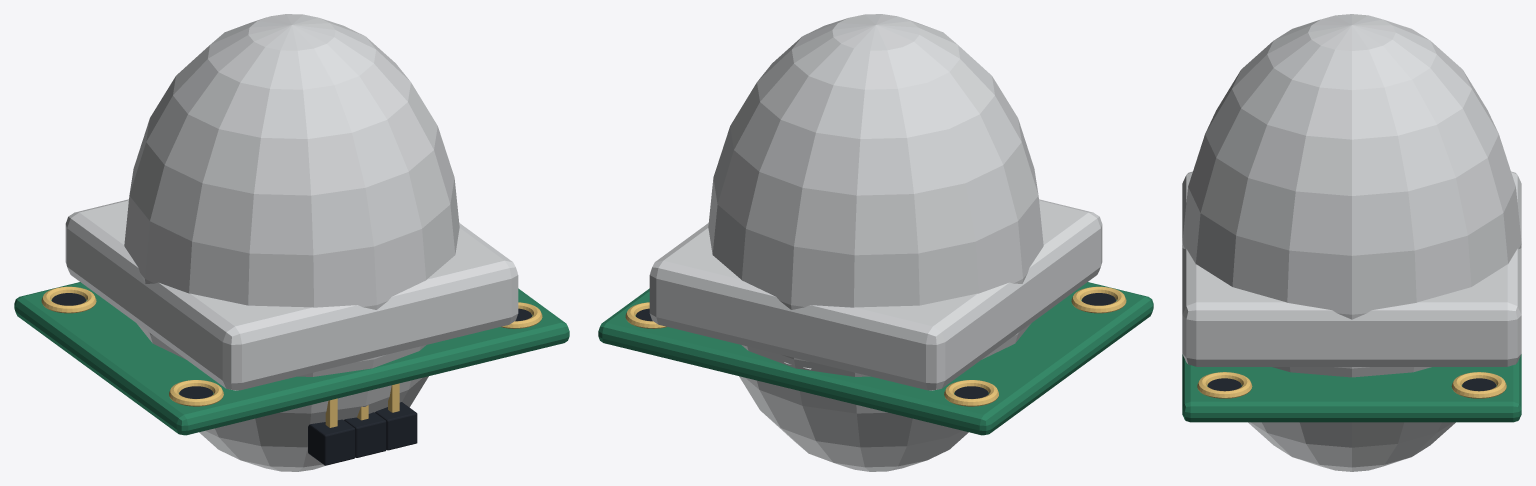
The model's file is motion-sensor.glb.
3 renders of one model, left to right at view 1: azimuth 30°, elevation 25°; view 2: azimuth 150°, elevation 25°; view 3: azimuth 270°, elevation 25°, orthographic.
Parts seen in each view (by area): view 1: Static body • white, Static body • greenPCB, Static body • black, Static body • gold; view 2: Static body • white, Static body • greenPCB, Static body • gold, Static body • black; view 3: Static body • white, Static body • greenPCB, Static body • gold, Static body • black.
Part boxes in pixels (left/top/right/bottom): Static body • white: left=65, top=14, right=518, bottom=471; Static body • greenPCB: left=14, top=282, right=569, bottom=435; Static body • black: left=52, top=293, right=531, bottom=465; Static body • gold: left=41, top=286, right=542, bottom=427; Static body • white: left=649, top=14, right=1102, bottom=471; Static body • greenPCB: left=598, top=282, right=1153, bottom=435; Static body • gold: left=625, top=286, right=1126, bottom=406; Static body • black: left=636, top=293, right=1115, bottom=398; Static body • white: left=1182, top=14, right=1521, bottom=471; Static body • greenPCB: left=1182, top=354, right=1521, bottom=422; Static body • gold: left=1197, top=372, right=1506, bottom=398; Static body • black: left=1207, top=378, right=1496, bottom=391.
Bounding box in the file's own units: 32 × 34 × 24.
